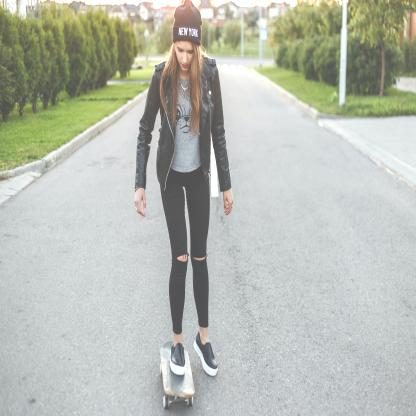dress: (138, 59, 234, 194)
